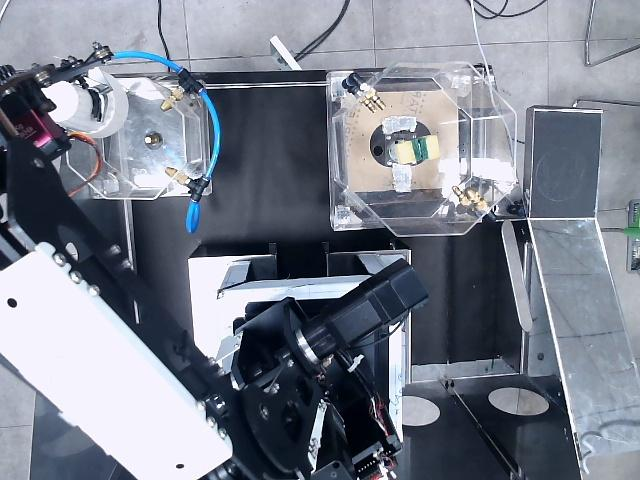cup: (43, 68, 128, 137)
